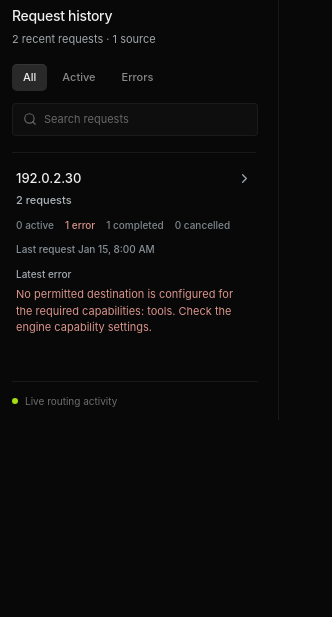
Test: searches request evidence and exposes exact matches: TOOLS
In the field labelled "Search requests": (146,119) [44, 104, 247, 135], type "TOOLS"
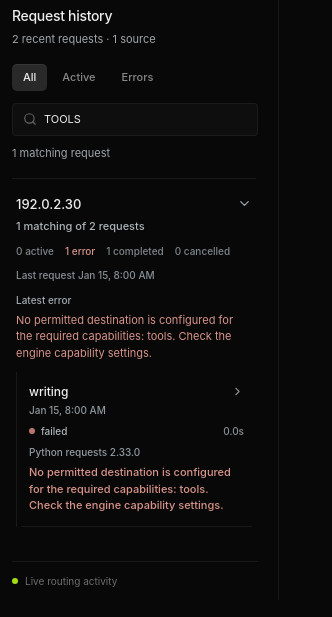
Result: the text "1 matching request" is shown at [12, 146, 110, 160]
Result: the button that starts with "writing" is shown at [21, 372, 252, 527]
